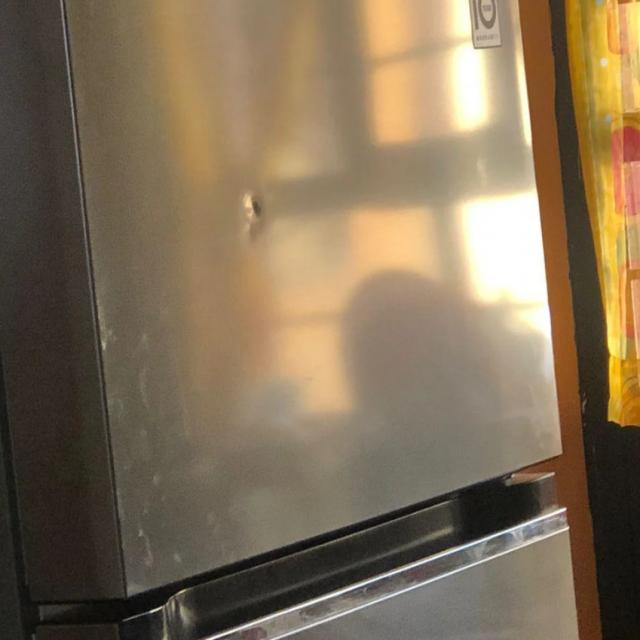dents: (225, 167, 294, 262)
